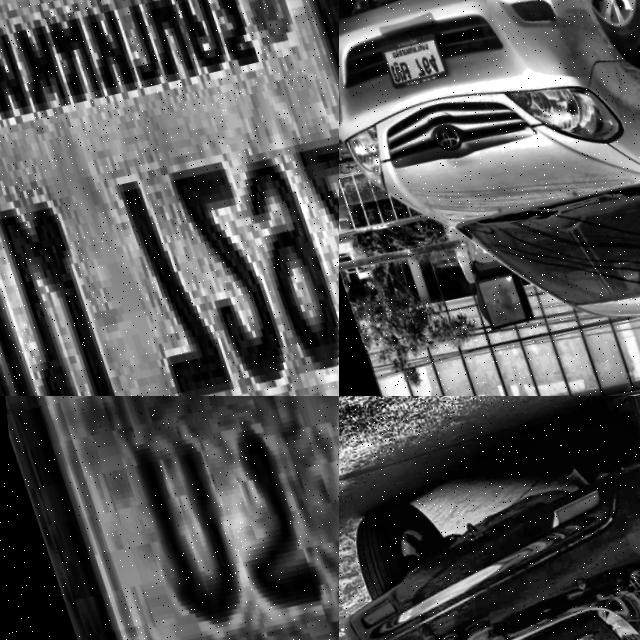license-plate: (0, 0, 339, 396), (0, 396, 339, 640), (372, 25, 449, 93)
